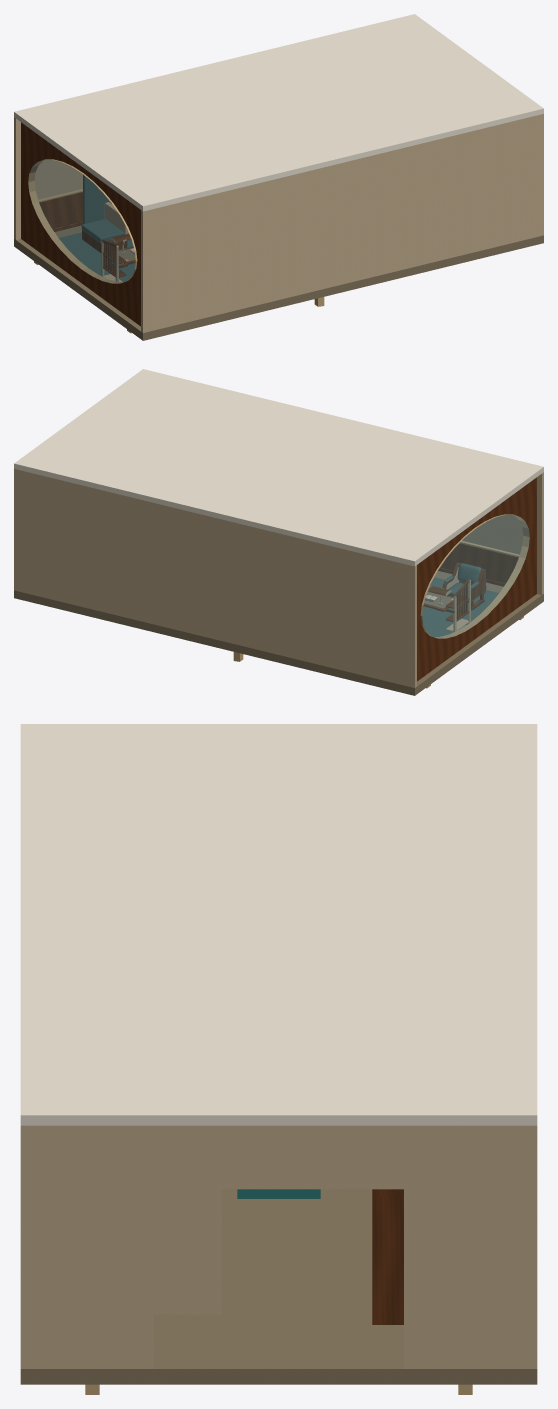
Rendered from NG470_AtriumInterior_r001.glb.
3 views of the same model, one above another, from view 1: azimuth 30°, elevation 25°; view 2: azimuth 150°, elevation 25°; view 3: azimuth 270°, elevation 25° (orthographic). The views are drawn at different scales.
Visible parts, largest first — view 1: NG470_RuntimeBatch_001, NG470_OvalAtriumGlass, NG470_RuntimeBatch_002, NG470_RoomFloor, NG470_RuntimeBatch_004, NGA_470_OutlookFloorInlay, NGA_470_South_LowPanel, NG470_RuntimeBatch_006, NGA_470_ViewSeat_Cushion, NG470_RuntimeBatch_026; view 2: NG470_RuntimeBatch_001, NG470_OvalAtriumGlass, NG470_RuntimeBatch_002, NG470_RoomFloor, NGA_470_North_LowPanel, NG470_RuntimeBatch_004, NGA_470_OutlookFloorInlay, NG470_RuntimeBatch_026, NG470_RuntimeBatch_052, NG470_RuntimeBatch_047; view 3: NG470_RuntimeBatch_001, NG470_RoomFloor, NG470_RuntimeBatch_002, NG470_RuntimeBatch_010.
Part boxes in pixels (x1,y1,x2,y2): NG470_RuntimeBatch_001: [14, 14, 543, 332]; NG470_OvalAtriumGlass: [28, 160, 135, 283]; NG470_RuntimeBatch_002: [21, 122, 140, 326]; NG470_RoomFloor: [14, 225, 543, 340]; NG470_RuntimeBatch_004: [28, 159, 324, 333]; NGA_470_OutlookFloorInlay: [59, 232, 135, 281]; NGA_470_South_LowPanel: [39, 192, 82, 228]; NG470_RuntimeBatch_006: [83, 174, 111, 224]; NGA_470_ViewSeat_Cushion: [81, 219, 124, 242]; NG470_RuntimeBatch_026: [101, 239, 135, 277]; NG470_RuntimeBatch_001: [14, 369, 543, 687]; NG470_OvalAtriumGlass: [422, 515, 529, 638]; NG470_RuntimeBatch_002: [417, 477, 536, 681]; NG470_RoomFloor: [14, 571, 543, 695]; NGA_470_North_LowPanel: [440, 543, 518, 583]; NG470_RuntimeBatch_004: [233, 514, 529, 688]; NGA_470_OutlookFloorInlay: [422, 577, 498, 636]; NG470_RuntimeBatch_026: [423, 579, 469, 621]; NG470_RuntimeBatch_052: [448, 563, 481, 595]; NG470_RuntimeBatch_047: [442, 563, 486, 609]; NG470_RuntimeBatch_001: [20, 724, 537, 1368]; NG470_RoomFloor: [20, 1189, 537, 1384]; NG470_RuntimeBatch_002: [372, 1189, 403, 1324]; NG470_RuntimeBatch_010: [237, 1189, 320, 1198].
Size of the model in its own units: 12.9 by 4.91 by 7.2.
Materials: 39 (20 with a texture image).
